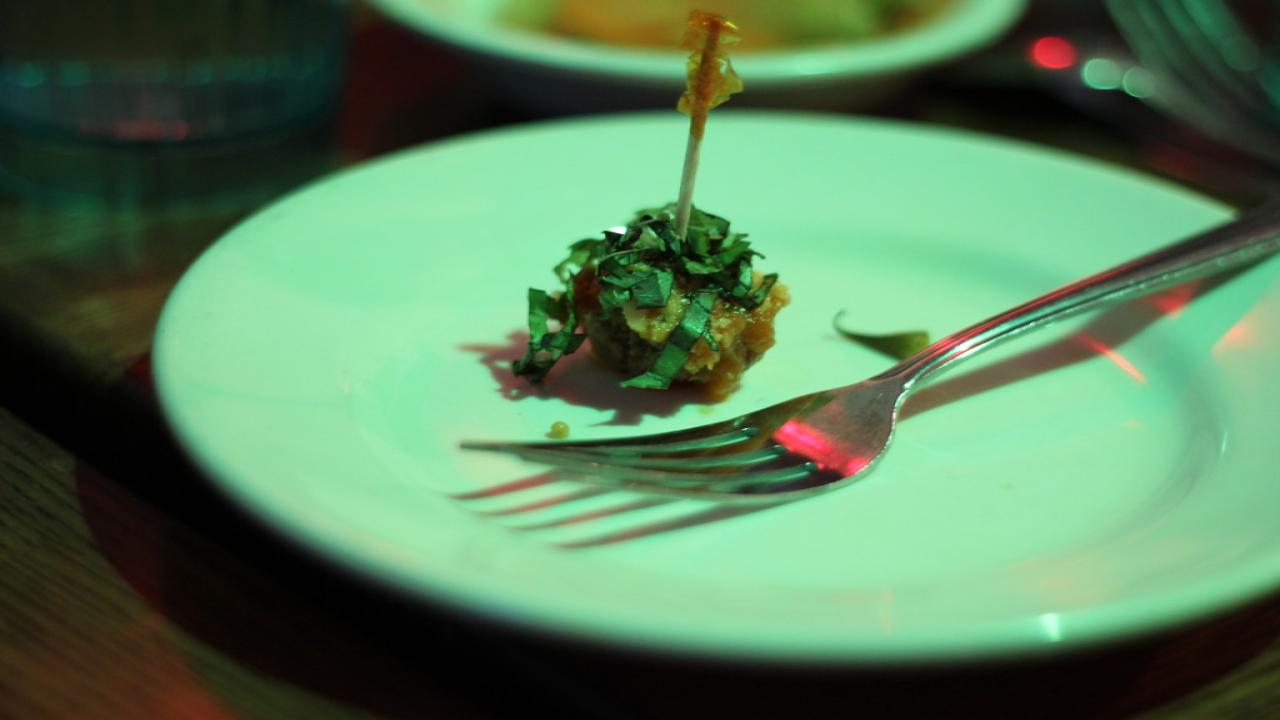fork: (460, 202, 1280, 510)
